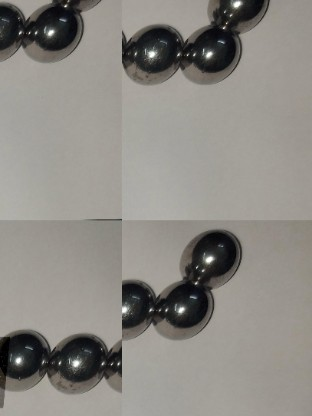ironball: (176, 20, 253, 85), (46, 321, 111, 397), (21, 0, 86, 71), (152, 278, 215, 342), (170, 229, 242, 284), (125, 20, 184, 85), (2, 322, 50, 392), (116, 278, 165, 338), (204, 0, 279, 33), (1, 0, 25, 71), (0, 336, 14, 408), (107, 333, 122, 397)
